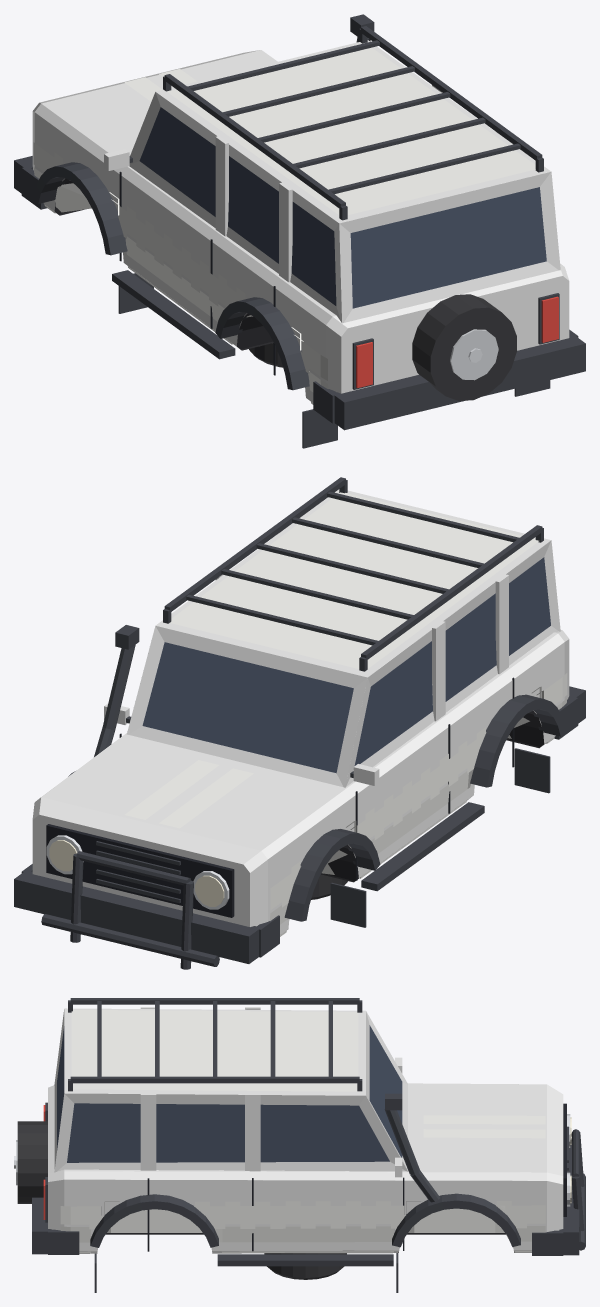
The model's file is hirvi_4x4.glb.
3 views of the same model, one above another, from view 1: azimuth 30°, elevation 25°; view 2: azimuth 150°, elevation 25°; view 3: azimuth 270°, elevation 25° (orthographic). The views are drawn at different scales.
Parts seen in each view (by area): view 1: Body, Details, Pattern_TWO_TONE, Pattern_STRIPE, Pattern_SIDE_BAND, Pattern_CHECKER; view 2: Body, Details, Pattern_TWO_TONE, Pattern_STRIPE, Pattern_SIDE_BAND, Pattern_CHECKER; view 3: Body, Pattern_TWO_TONE, Details, Pattern_STRIPE, Pattern_SIDE_BAND, Pattern_CHECKER, Wheel.
Part boxes in pixels (x1,y1,x2,y2): Body: [32, 40, 569, 402]; Details: [14, 14, 585, 448]; Pattern_TWO_TONE: [33, 47, 535, 404]; Pattern_STRIPE: [124, 69, 466, 193]; Pattern_SIDE_BAND: [33, 142, 327, 380]; Pattern_CHECKER: [46, 152, 309, 373]; Body: [32, 489, 569, 934]; Details: [14, 477, 585, 969]; Pattern_TWO_TONE: [170, 492, 567, 936]; Pattern_STRIPE: [124, 510, 455, 828]; Pattern_SIDE_BAND: [270, 673, 567, 910]; Pattern_CHECKER: [282, 686, 550, 907]; Body: [48, 1007, 563, 1253]; Pattern_TWO_TONE: [60, 1009, 545, 1253]; Details: [14, 998, 585, 1292]; Pattern_STRIPE: [75, 1038, 545, 1138]; Pattern_SIDE_BAND: [60, 1205, 545, 1224]; Pattern_CHECKER: [89, 1201, 526, 1229]; Wheel: [264, 1253, 346, 1279].
Bounding box in the file's own units: 2.06 × 2.01 × 4.55.
